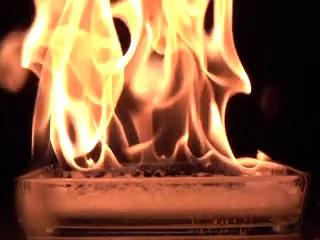Fire: (12, 1, 287, 181)
